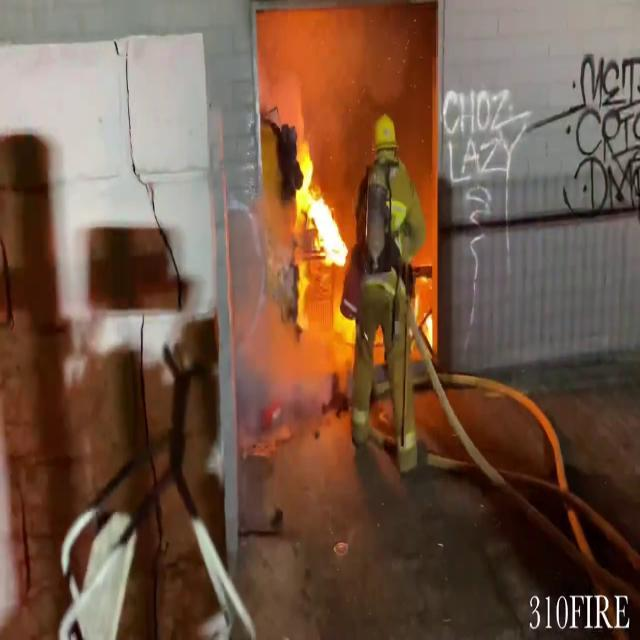Fire: (288, 130, 350, 278)
